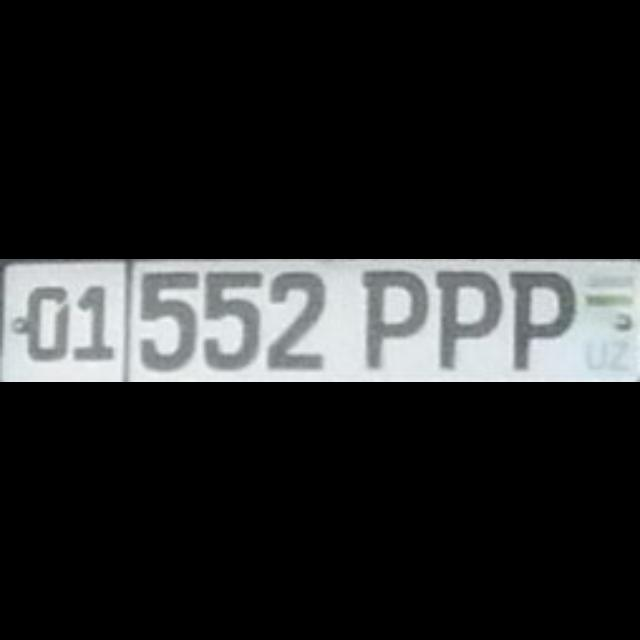0: (25, 284, 65, 356)
1: (71, 280, 111, 356)
2: (264, 268, 320, 366)
5: (136, 268, 196, 368), (199, 268, 259, 366)
P: (360, 266, 426, 366), (433, 266, 499, 366), (506, 266, 572, 366)
